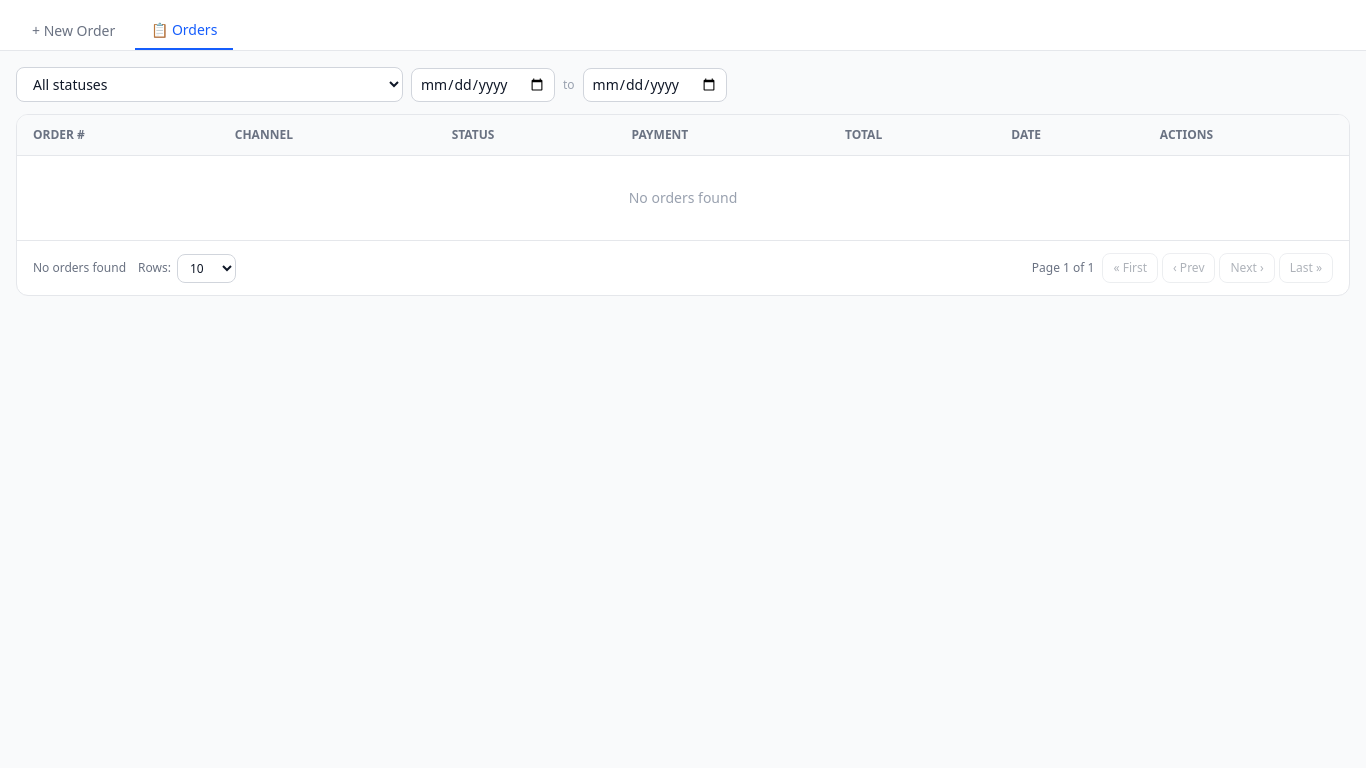
Test: stock › searches at the branch's location, leaving the branch to the session (was: the branch sent from the client)
Click the button "+ New Order" at (74, 31), box x1=16 y1=12 x2=131 y2=50
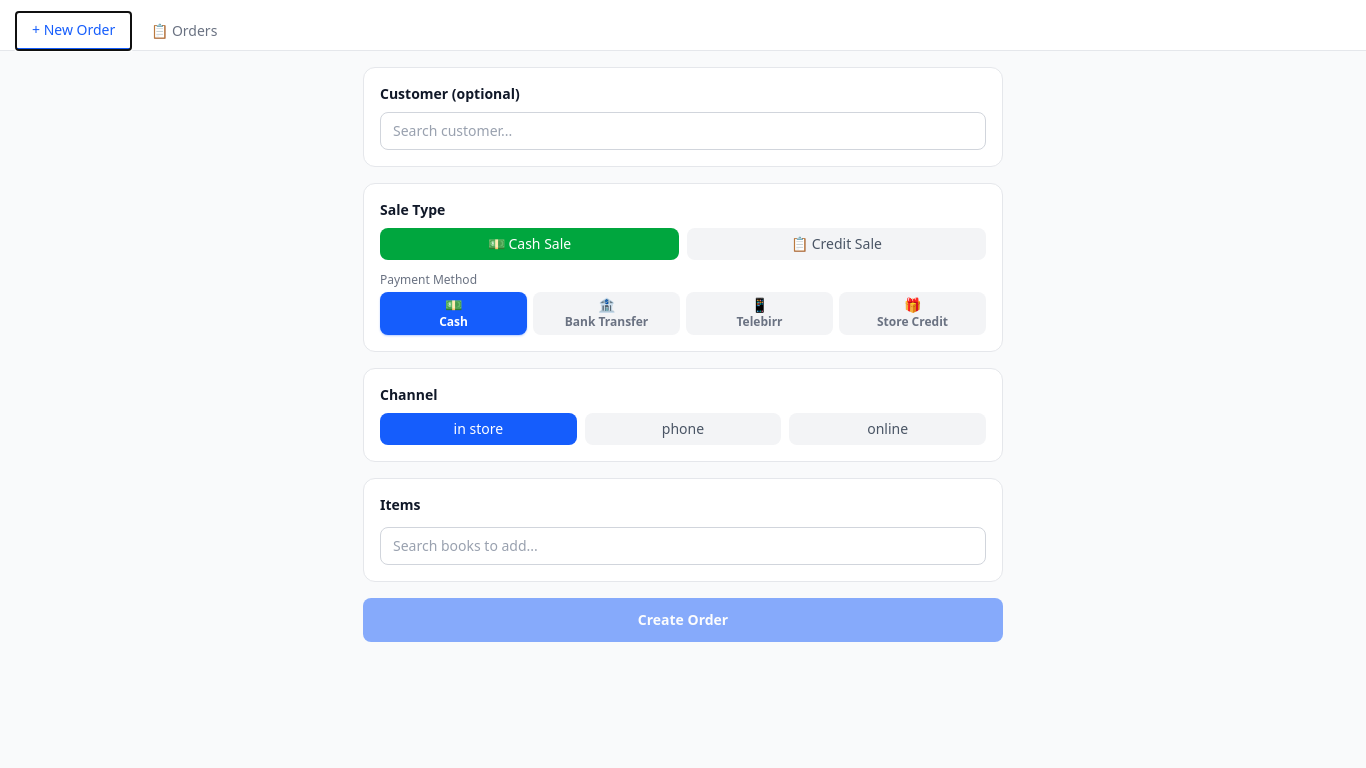
Type "Fikir" into the field with placeholder "Search books to add..." at (683, 546), box x1=380 y1=527 x2=986 y2=565
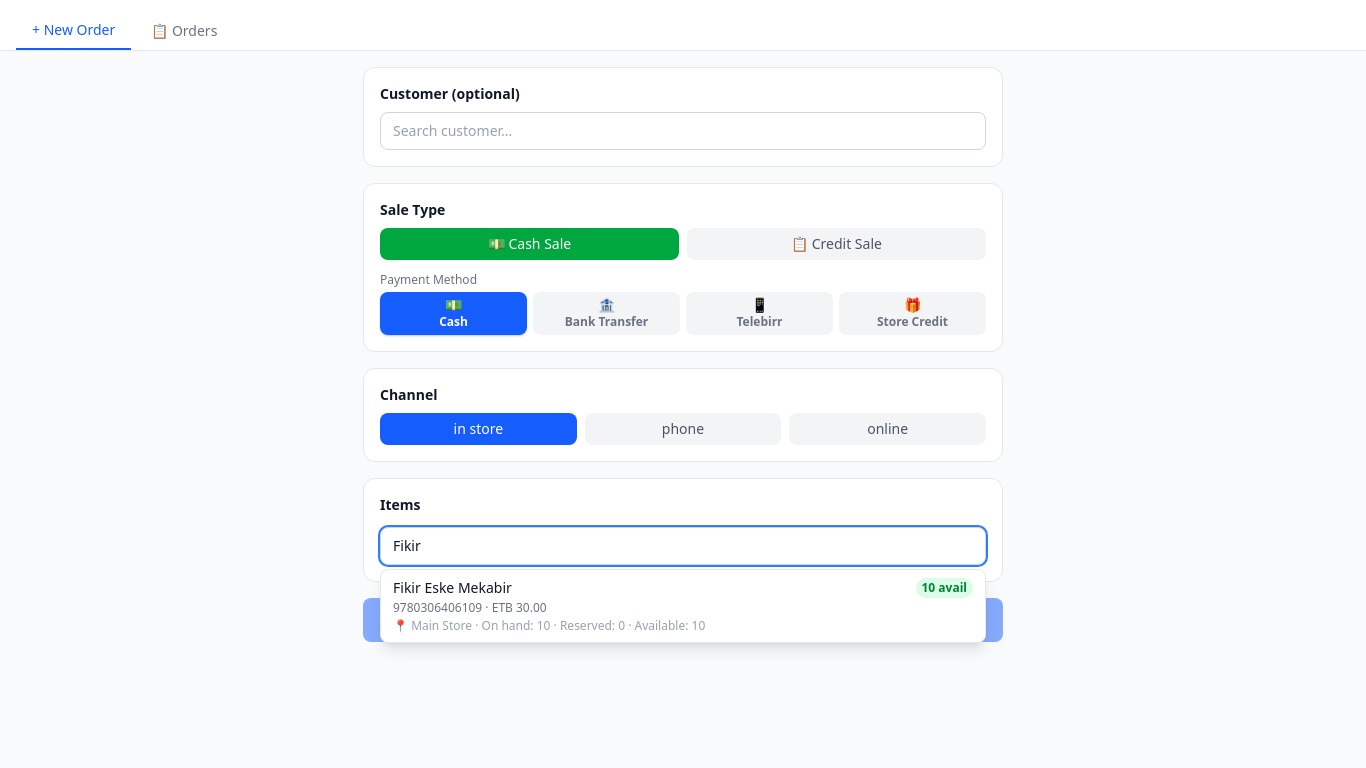
Expected: the text "10 avail" is shown, x1=916 y1=578 x2=973 y2=598
